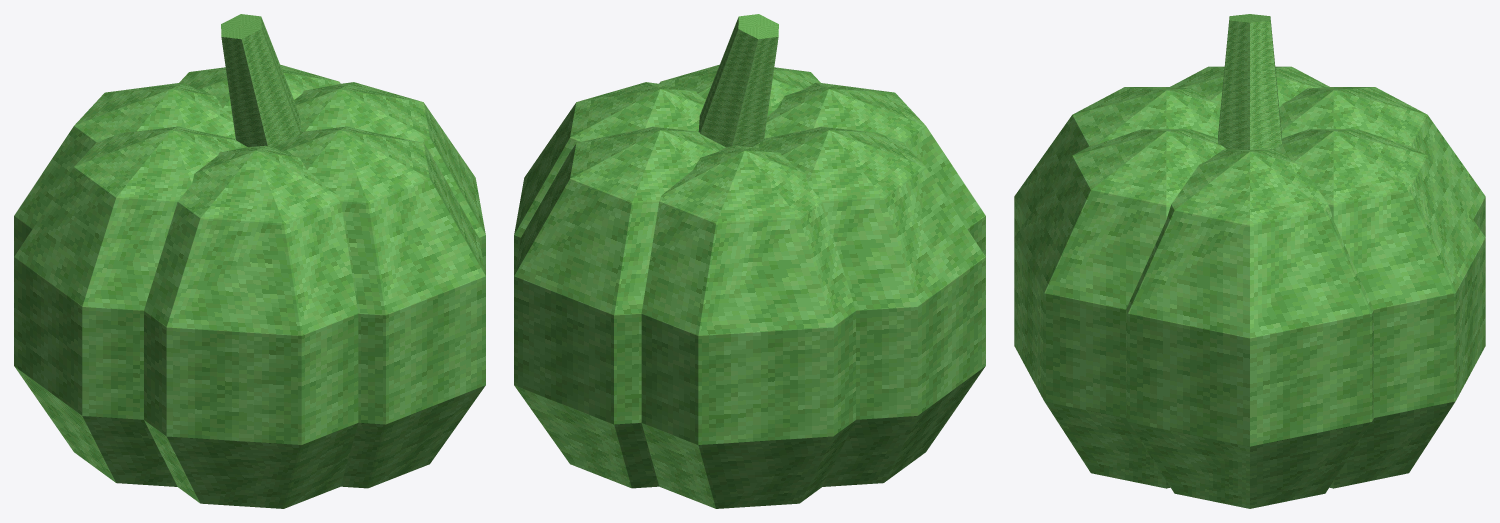
Rendered from repolho.glb.
3 renders of one model, left to right at view 1: azimuth 30°, elevation 25°; view 2: azimuth 150°, elevation 25°; view 3: azimuth 270°, elevation 25°, orthographic.
Visible parts, largest first — view 1: repolho; view 2: repolho; view 3: repolho.
Part boxes in pixels (bbox=[...]): repolho: bbox=[14, 14, 485, 508]; repolho: bbox=[514, 14, 985, 508]; repolho: bbox=[1014, 14, 1485, 508].
Bounding box in the file's own units: 0.4566 × 0.4536 × 0.4396.
1 material, 1 textured.
